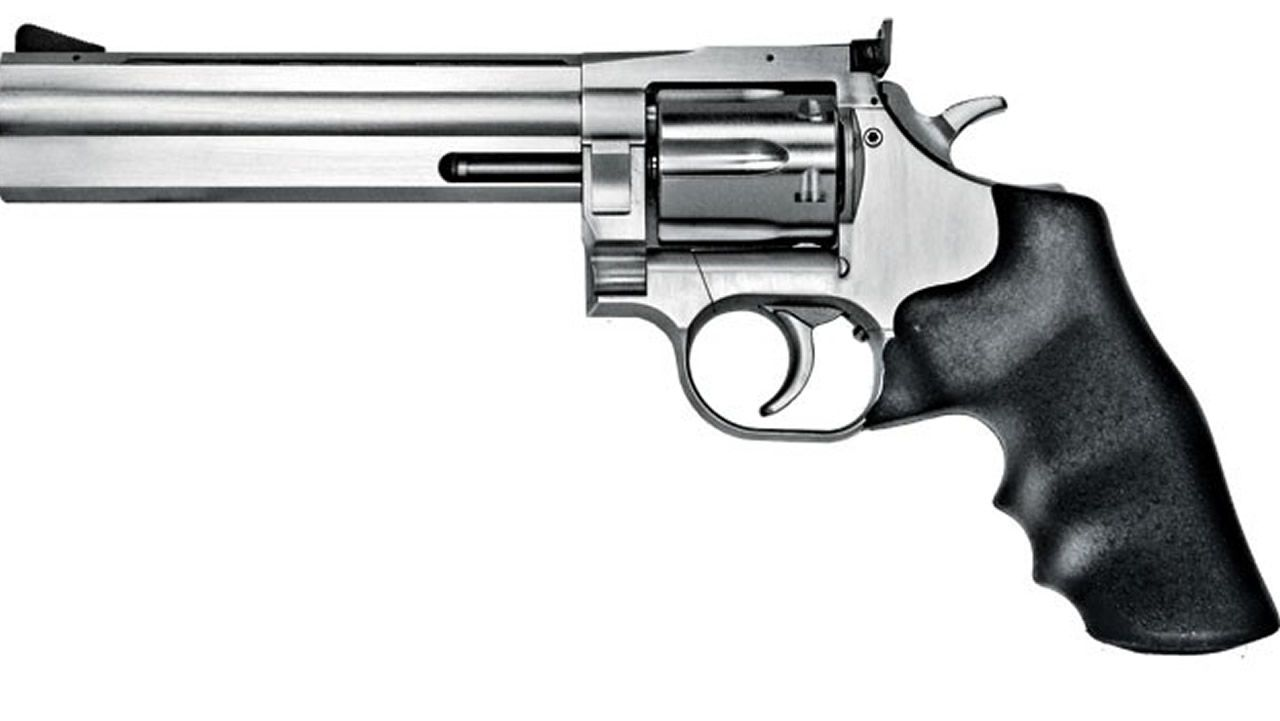Revolver: (9, 2, 1276, 673)
